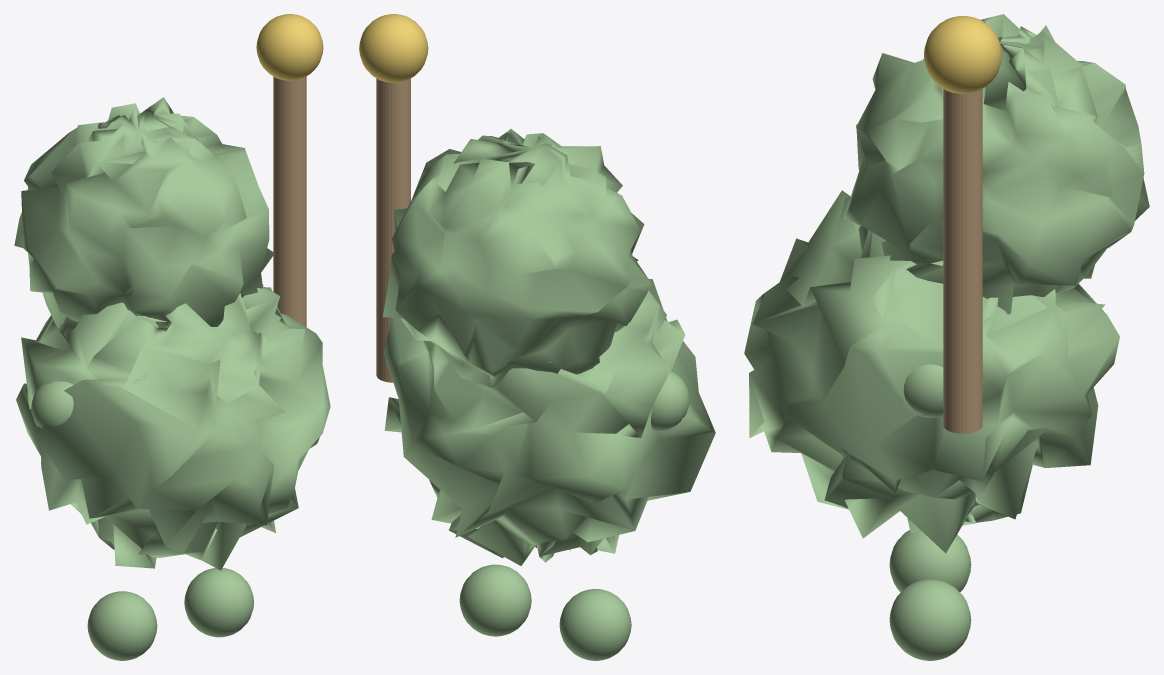
Rendered from clay_cactus_sage.glb.
3 views of the same model, side by side, from view 1: azimuth 30°, elevation 25°; view 2: azimuth 150°, elevation 25°; view 3: azimuth 270°, elevation 25° (orthographic). The views are drawn at different scales.
Visible parts, largest first — view 1: orb; view 2: orb; view 3: orb.
Part boxes in pixels (left/top/right/bottom): orb: left=14, top=14, right=330, bottom=660; orb: left=359, top=14, right=715, bottom=660; orb: left=744, top=14, right=1149, bottom=660.
Size of the model in its own units: 1.25 by 2.31 by 1.24.
